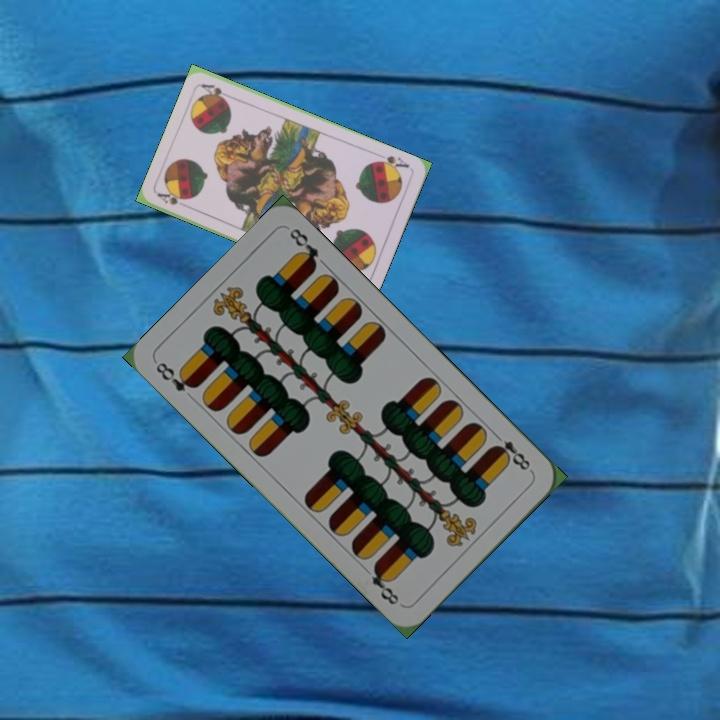E8: (488, 429, 535, 476), (151, 358, 200, 394)
SA: (372, 151, 411, 174), (154, 189, 190, 208)
